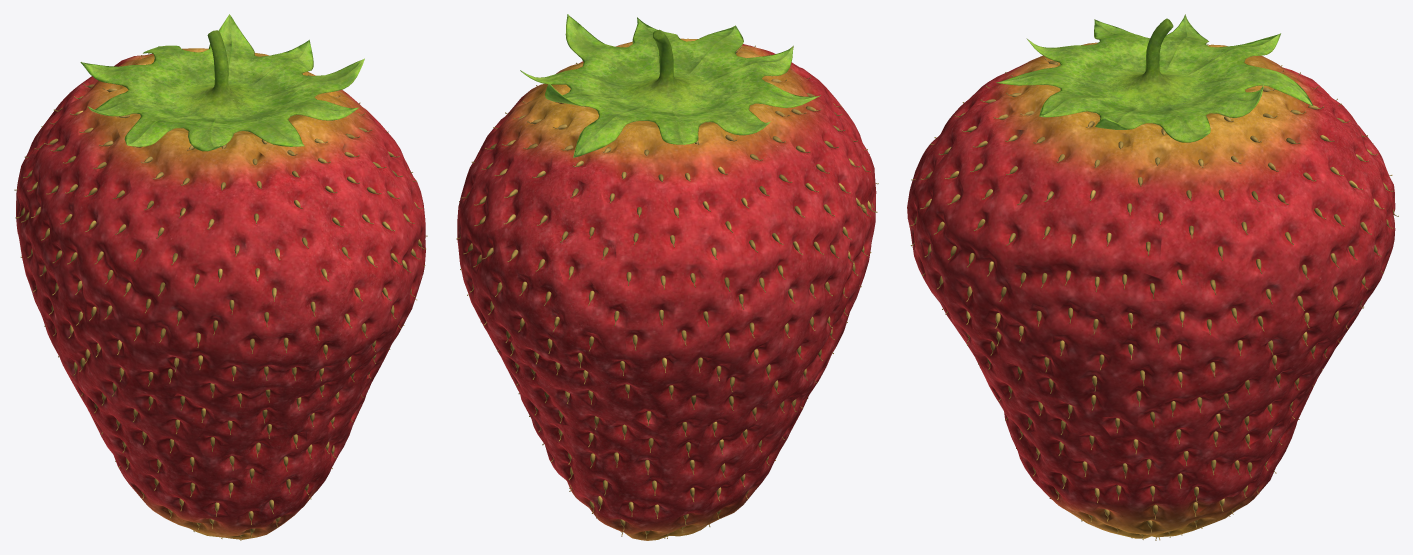
File: file-uy7UnsTy.glb
The picture shows the model from 3 angles, left to right: view 1: azimuth 30°, elevation 25°; view 2: azimuth 150°, elevation 25°; view 3: azimuth 270°, elevation 25°; orthographic projection. The views are drawn at different scales.
Parts seen in each view (by area): view 1: g.002, g, g.001; view 2: g.002, g, g.001; view 3: g.002, g, g.001.
Part boxes in pixels (x1,y1,x2,y2): g.002: (16, 48, 425, 539); g: (80, 14, 364, 151); g.001: (14, 52, 427, 540); g.002: (457, 38, 876, 540); g: (520, 14, 819, 157); g.001: (456, 38, 878, 538); g.002: (907, 42, 1395, 538); g: (996, 14, 1312, 142); g.001: (910, 44, 1398, 540).
Bounding box in the file's own units: 1.19 × 1.68 × 1.44.
1 material, 1 textured.
